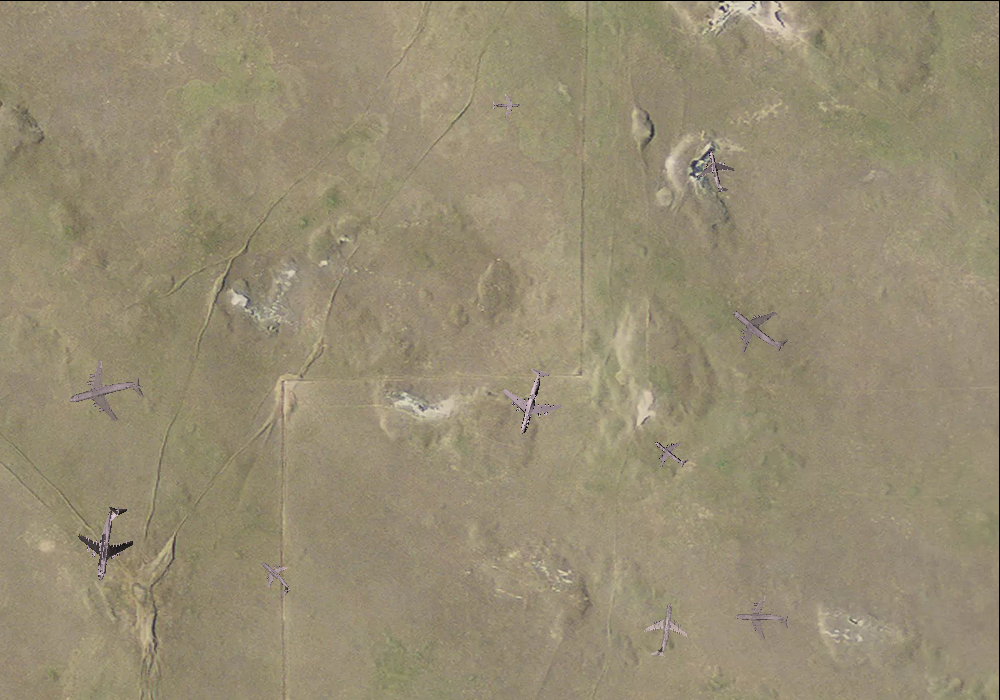plane: (59, 348, 150, 437), (715, 286, 801, 372), (69, 501, 146, 585), (492, 360, 570, 442), (635, 599, 693, 661), (247, 550, 302, 604), (734, 593, 789, 645), (644, 427, 696, 479), (691, 145, 741, 197), (492, 91, 521, 118)
